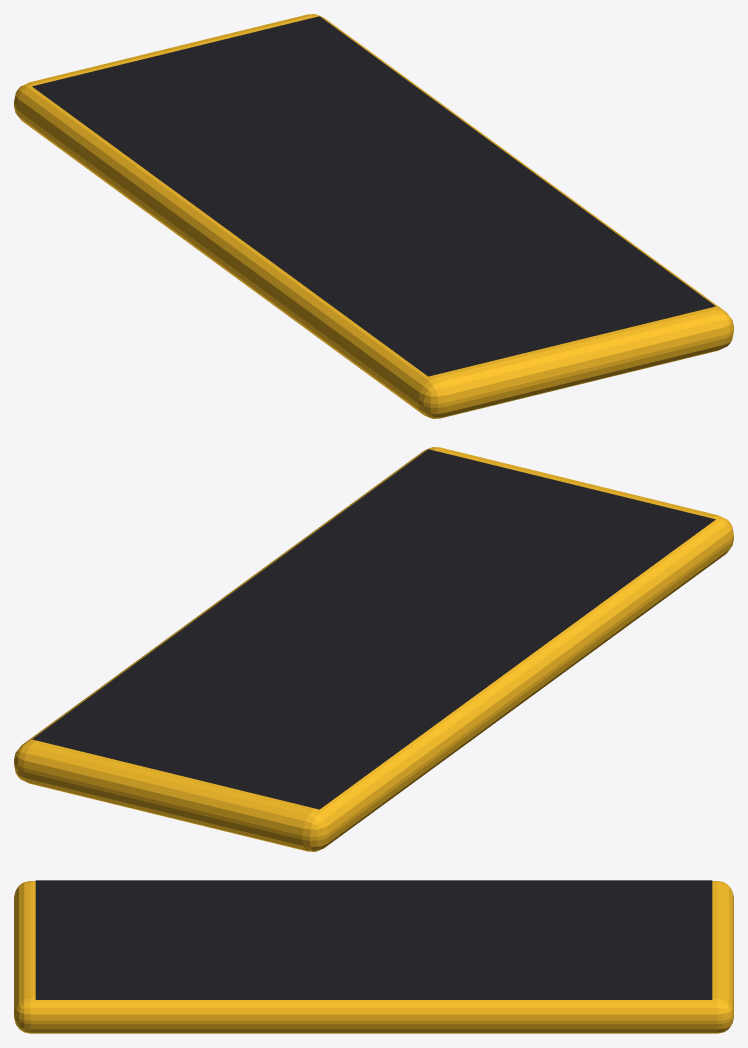
The model's file is oppo-f-model-334-budget-2024.glb.
3 views of the same model, one above another, from view 1: azimuth 30°, elevation 25°; view 2: azimuth 150°, elevation 25°; view 3: azimuth 270°, elevation 25° (orthographic). The views are drawn at different scales.
Parts seen in each view (by area): view 1: Phone_Screen, Phone_Body; view 2: Phone_Screen, Phone_Body; view 3: Phone_Screen, Phone_Body.
Part boxes in pixels (x1,y1,x2,y2): Phone_Screen: (32,16,715,376); Phone_Body: (14,14,733,418); Phone_Screen: (32,449,715,809); Phone_Body: (14,447,733,851); Phone_Screen: (35,880,712,999); Phone_Body: (14,881,733,1033).
Size of the model in its own units: 0.0725 by 0.0088 by 0.1693.
